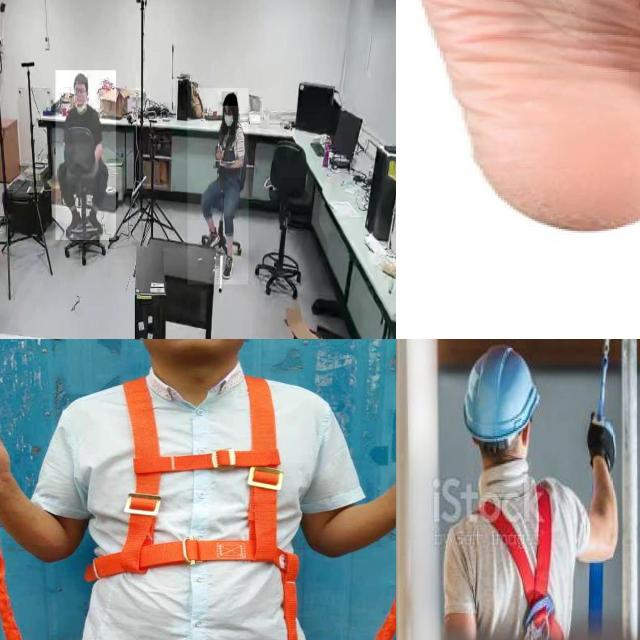Barefoots: (414, 0, 640, 232)
Harness: (119, 366, 293, 634), (478, 482, 565, 640)
face_mask: (223, 108, 235, 135)
face_nomask: (73, 83, 87, 105)
hand_noglove: (216, 146, 222, 161)
head_nohelmet: (222, 92, 238, 106), (74, 72, 88, 84)
person: (187, 88, 249, 285), (56, 70, 116, 241)
shoes: (220, 249, 236, 283), (66, 205, 84, 235), (86, 208, 106, 235), (203, 224, 223, 251)
